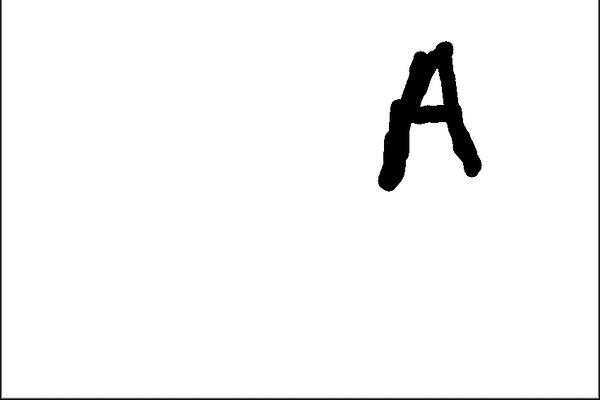A: (368, 37, 497, 191)
